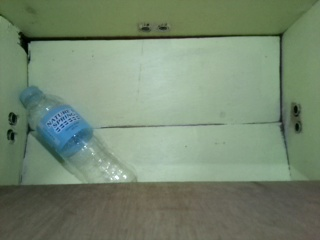bottle: (19, 84, 138, 194)
